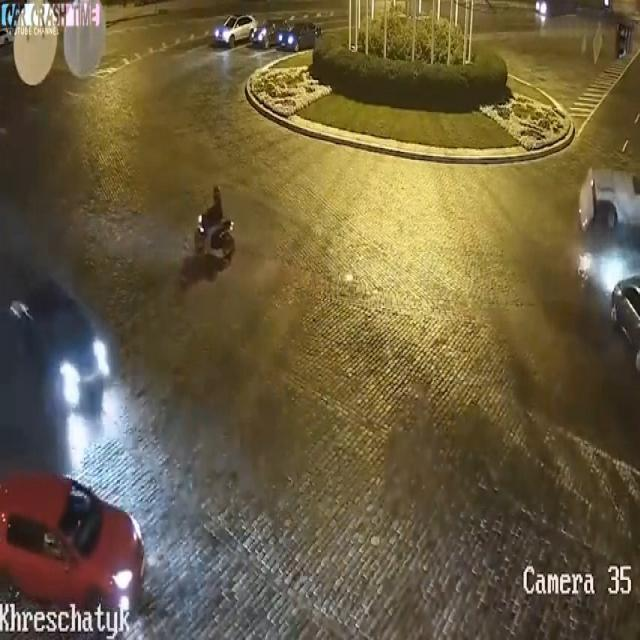Accident: (588, 143, 640, 426)
